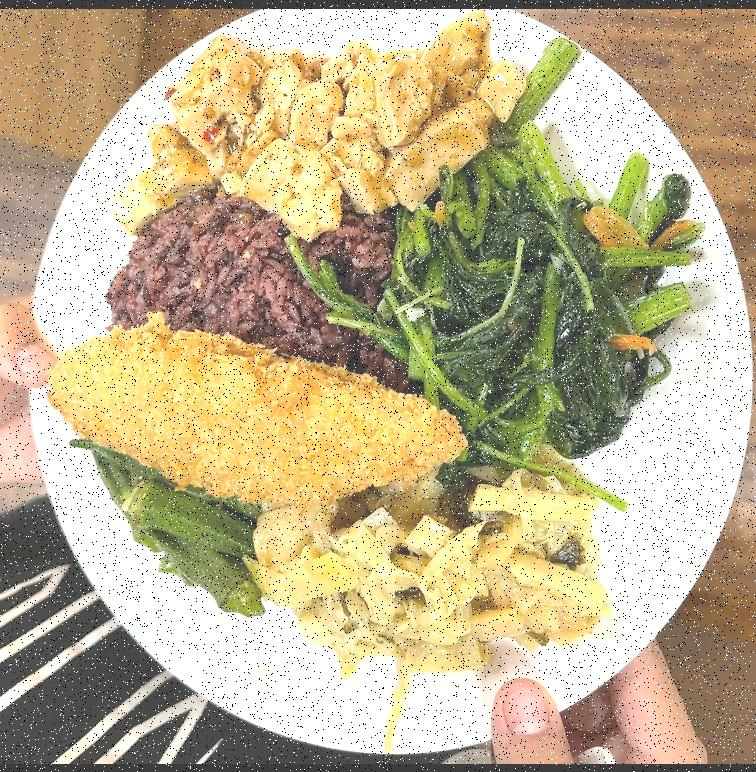big fried chicken leg: (16, 10, 754, 764)
braised fish: (107, 196, 386, 342)
braised fish fillet: (388, 136, 710, 456), (105, 8, 525, 236), (244, 478, 614, 674), (69, 450, 259, 616)
braised pork: (41, 310, 470, 511)
